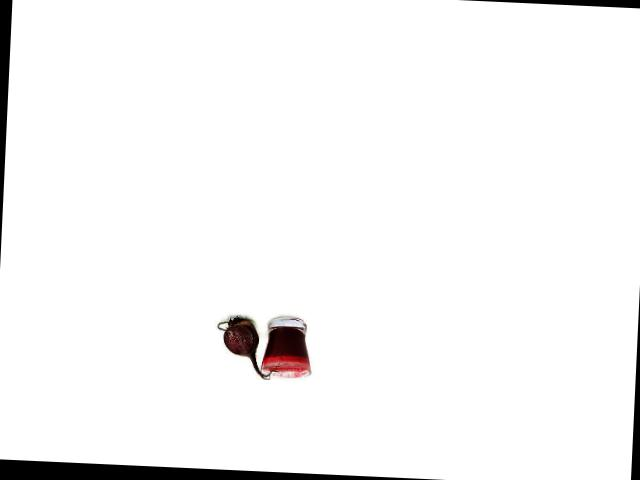beet: (216, 315, 281, 379)
